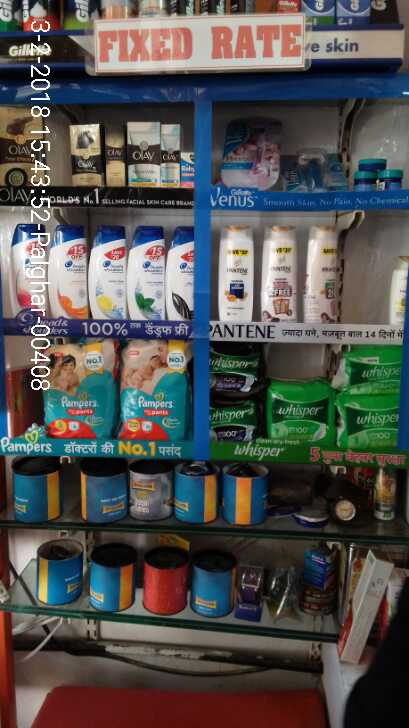gillete: (23, 1, 60, 30), (306, 1, 337, 31), (60, 1, 91, 30), (365, 1, 393, 28), (337, 1, 363, 30), (2, 1, 22, 32)
venus: (221, 115, 276, 185), (276, 153, 339, 185)
